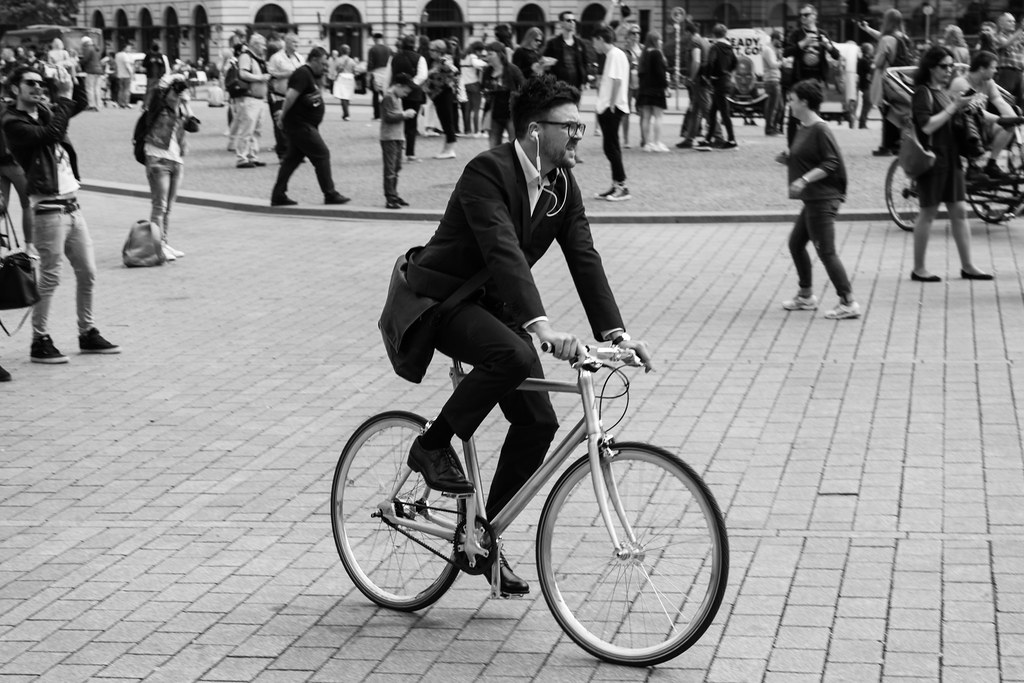cycle: (288, 321, 777, 680)
person: (382, 41, 612, 490)
